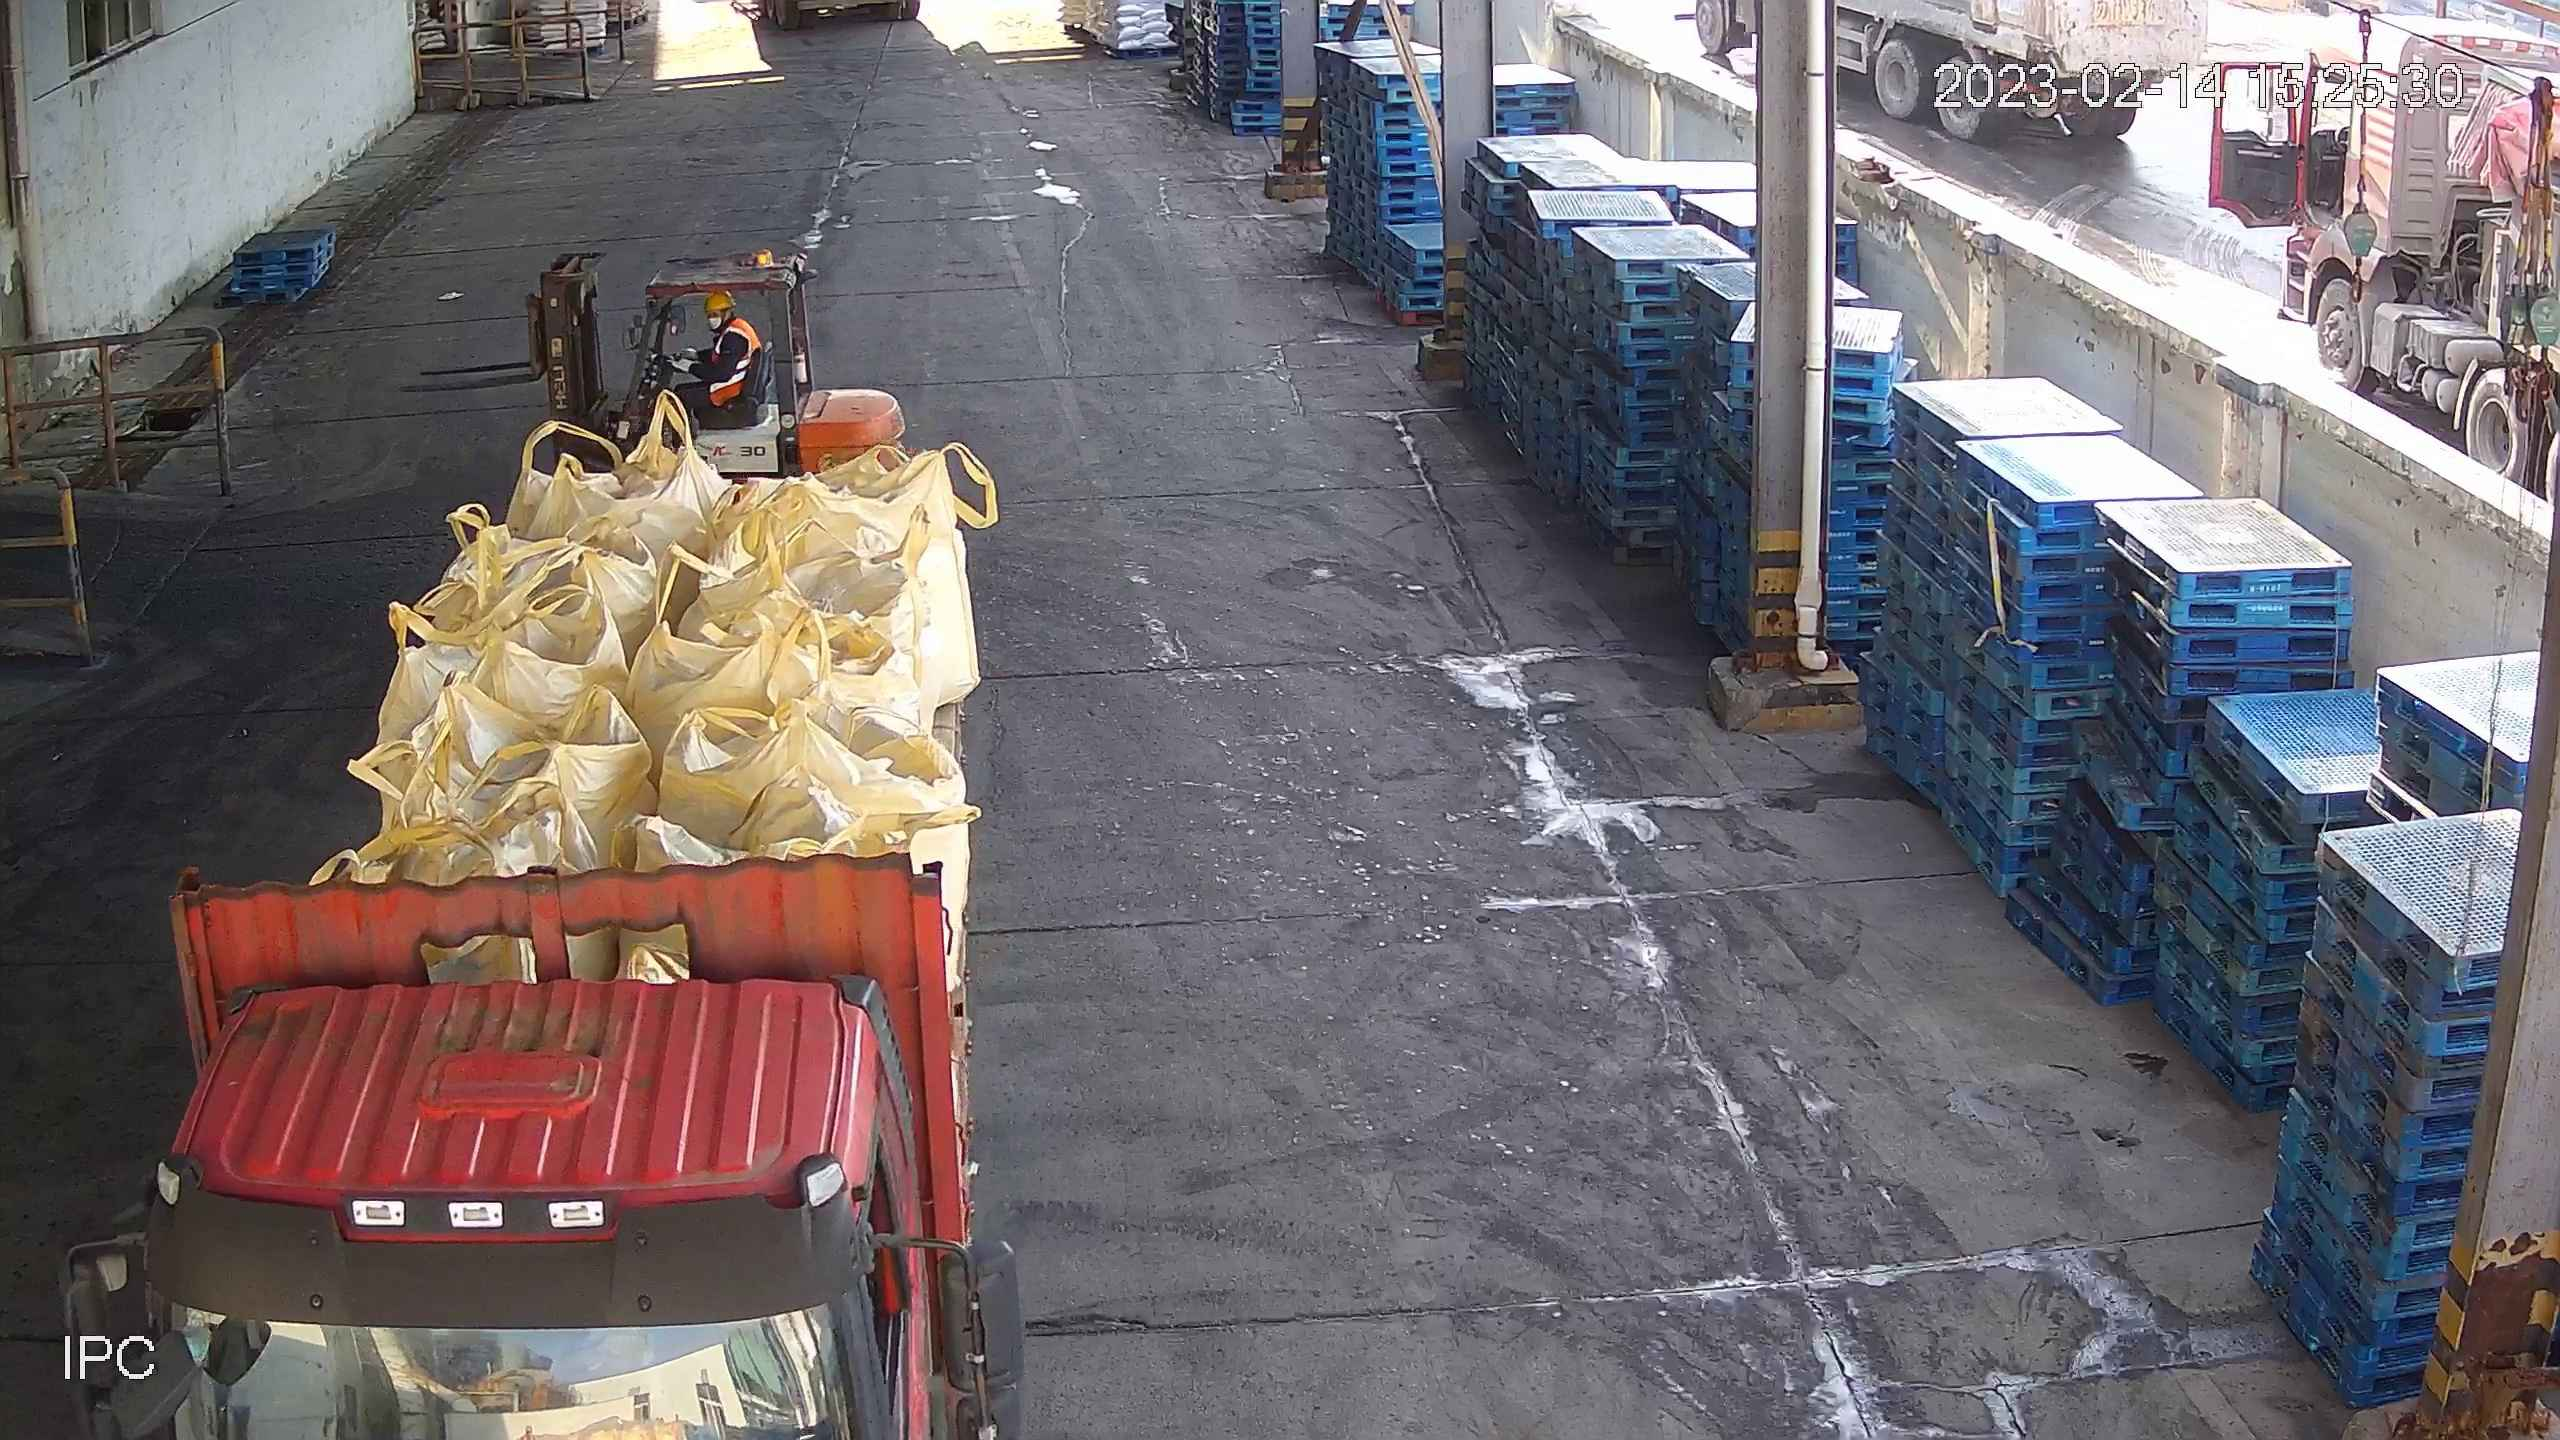head: (690, 286, 766, 360)
helmet: (705, 288, 735, 314)
people: (664, 284, 768, 408)
truck: (53, 443, 1042, 1440)
